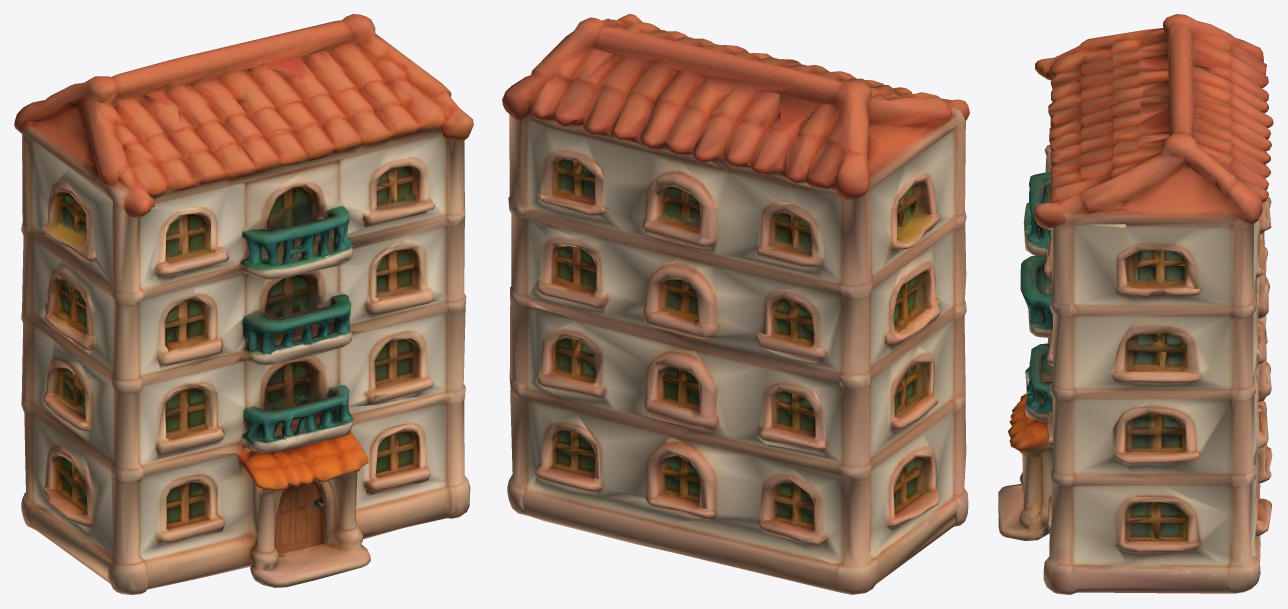
The model's file is building-apartment.glb.
3 renders of one model, left to right at view 1: azimuth 30°, elevation 25°; view 2: azimuth 150°, elevation 25°; view 3: azimuth 270°, elevation 25°, orthographic. The views are drawn at different scales.
Visible parts, largest first — view 1: Mesh_0; view 2: Mesh_0; view 3: Mesh_0.
Part boxes in pixels (x1,y1,x2,y2): Mesh_0: (14, 14, 473, 594); Mesh_0: (502, 14, 969, 594); Mesh_0: (998, 14, 1273, 594).
Size of the model in its own units: 1.68 by 2 by 1.13.
Materials: 1 (1 with a texture image).
